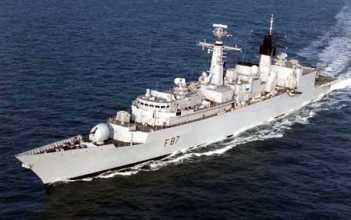warship: (17, 18, 343, 189)
